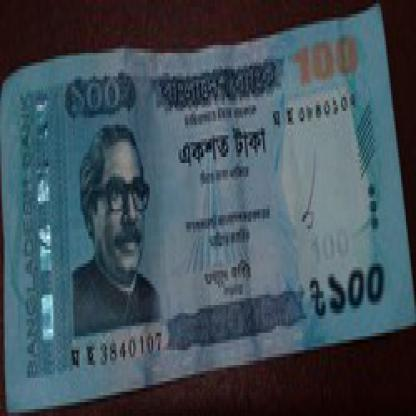one hundred taka: (326, 256, 393, 316), (293, 35, 361, 86), (65, 73, 126, 118)
